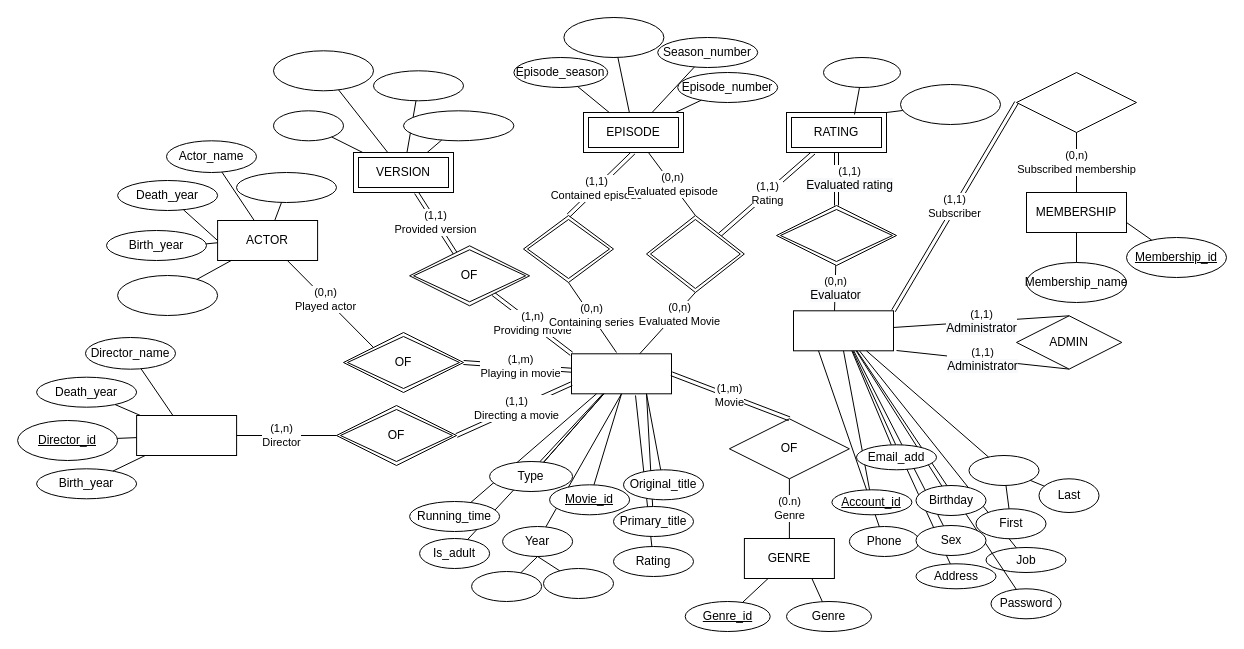
This 1244x649 diagram has some shape labels left out. Here are the shapes that lost their labels. From the top down, the box of each, then its label:
(563, 16, 664, 58): Episode_id
(272, 50, 374, 91): Version_id
(372, 70, 464, 101): Version_title
(822, 56, 900, 88): Single_rating
(900, 84, 1000, 124): Rating_id
(1016, 72, 1136, 132): SUBSCRIBE
(272, 110, 344, 141): Region
(402, 110, 514, 141): Language
(236, 172, 336, 202): Known_for_title
(522, 214, 614, 282): IN
(646, 214, 744, 292): EVALUATED AS
(776, 204, 896, 266): EVALUATE
(117, 274, 218, 316): Actor_id
(792, 310, 894, 351): ACCOUNT
(570, 353, 672, 394): MOVIE
(136, 414, 237, 456): DIRECTOR
(968, 454, 1039, 486): Name
(471, 570, 542, 602): Start
(542, 568, 614, 598): End
